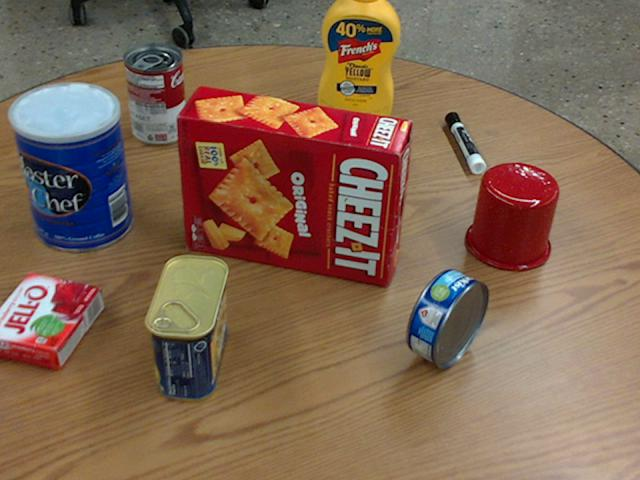cracker_box: (178, 86, 411, 286)
gelatin_box: (0, 272, 100, 367)
large_marker: (446, 111, 485, 173)
master_chef_can: (9, 83, 131, 251)
mug: (464, 161, 557, 269)
mustard_bottle: (319, 0, 400, 118)
potted_meat_can: (142, 253, 226, 399)
sugar_box: (227, 99, 391, 193)
tomato_soup_can: (123, 43, 186, 143)
tuna_fish_can: (407, 268, 487, 366)
